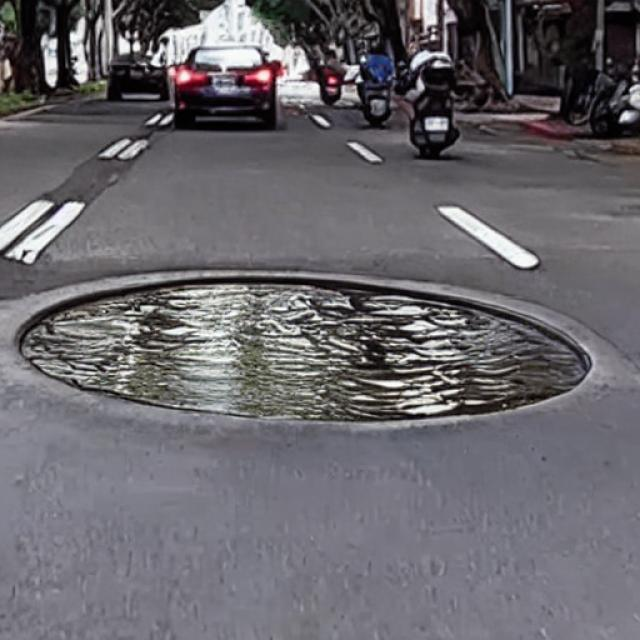puddle: (18, 278, 592, 422)
